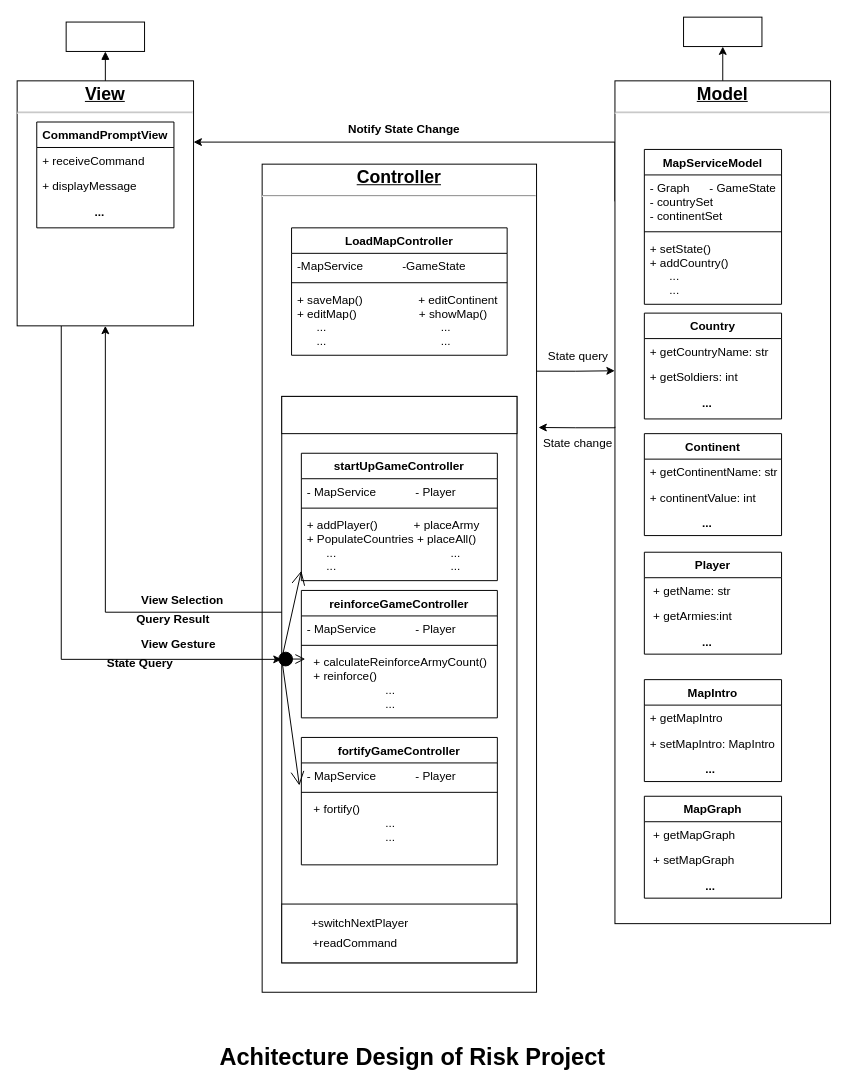
Image size: 853x1090. Some labels were removed from this diagram. Each missing label, with the centre of its shape:
GameController: (x=399, y=414)
Observable: (x=722, y=31)
Observer: (x=105, y=36)
